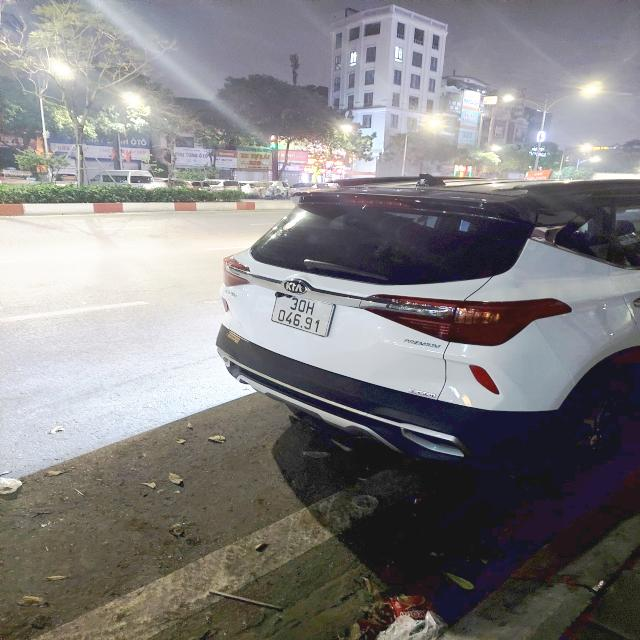license_plate: (273, 293, 333, 338)
